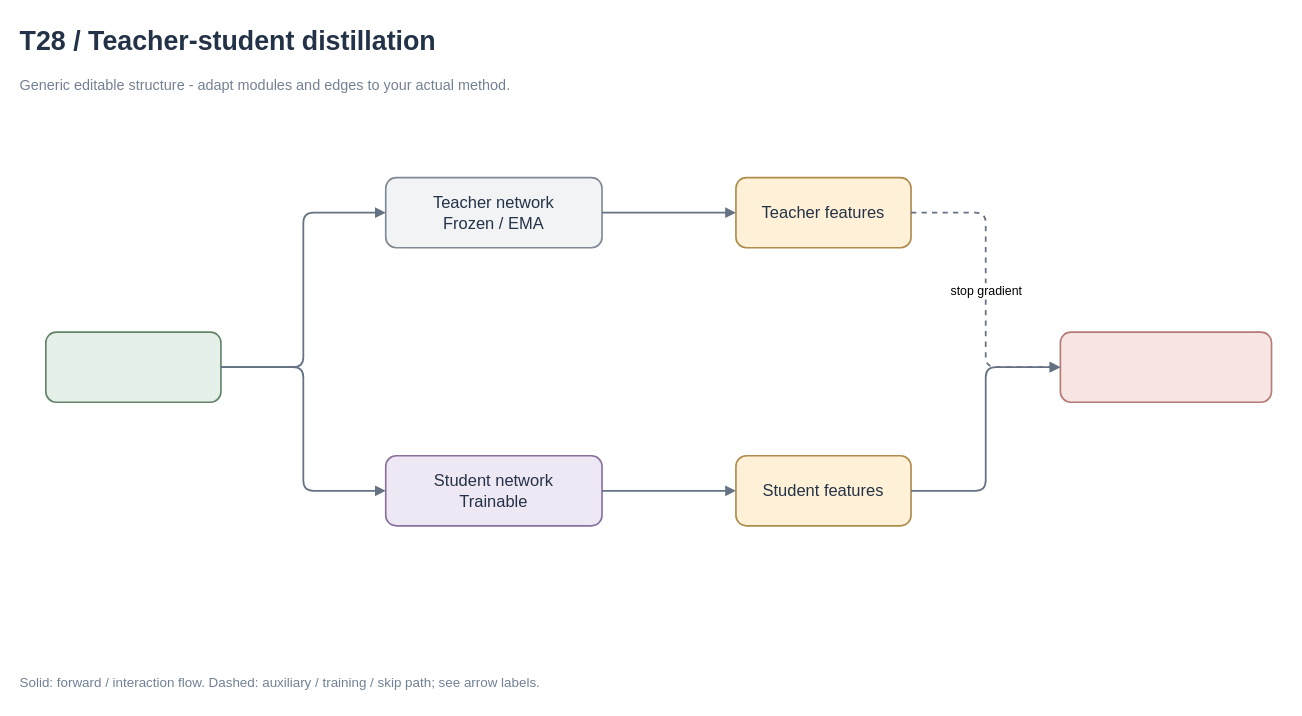
This 1302x716 diagram has some shape labels left out. Each missing label, with the centre of its shape:
"Distillation objective" belongs at pixel 1165 367.
"Training sample" belongs at pixel 132 367.
